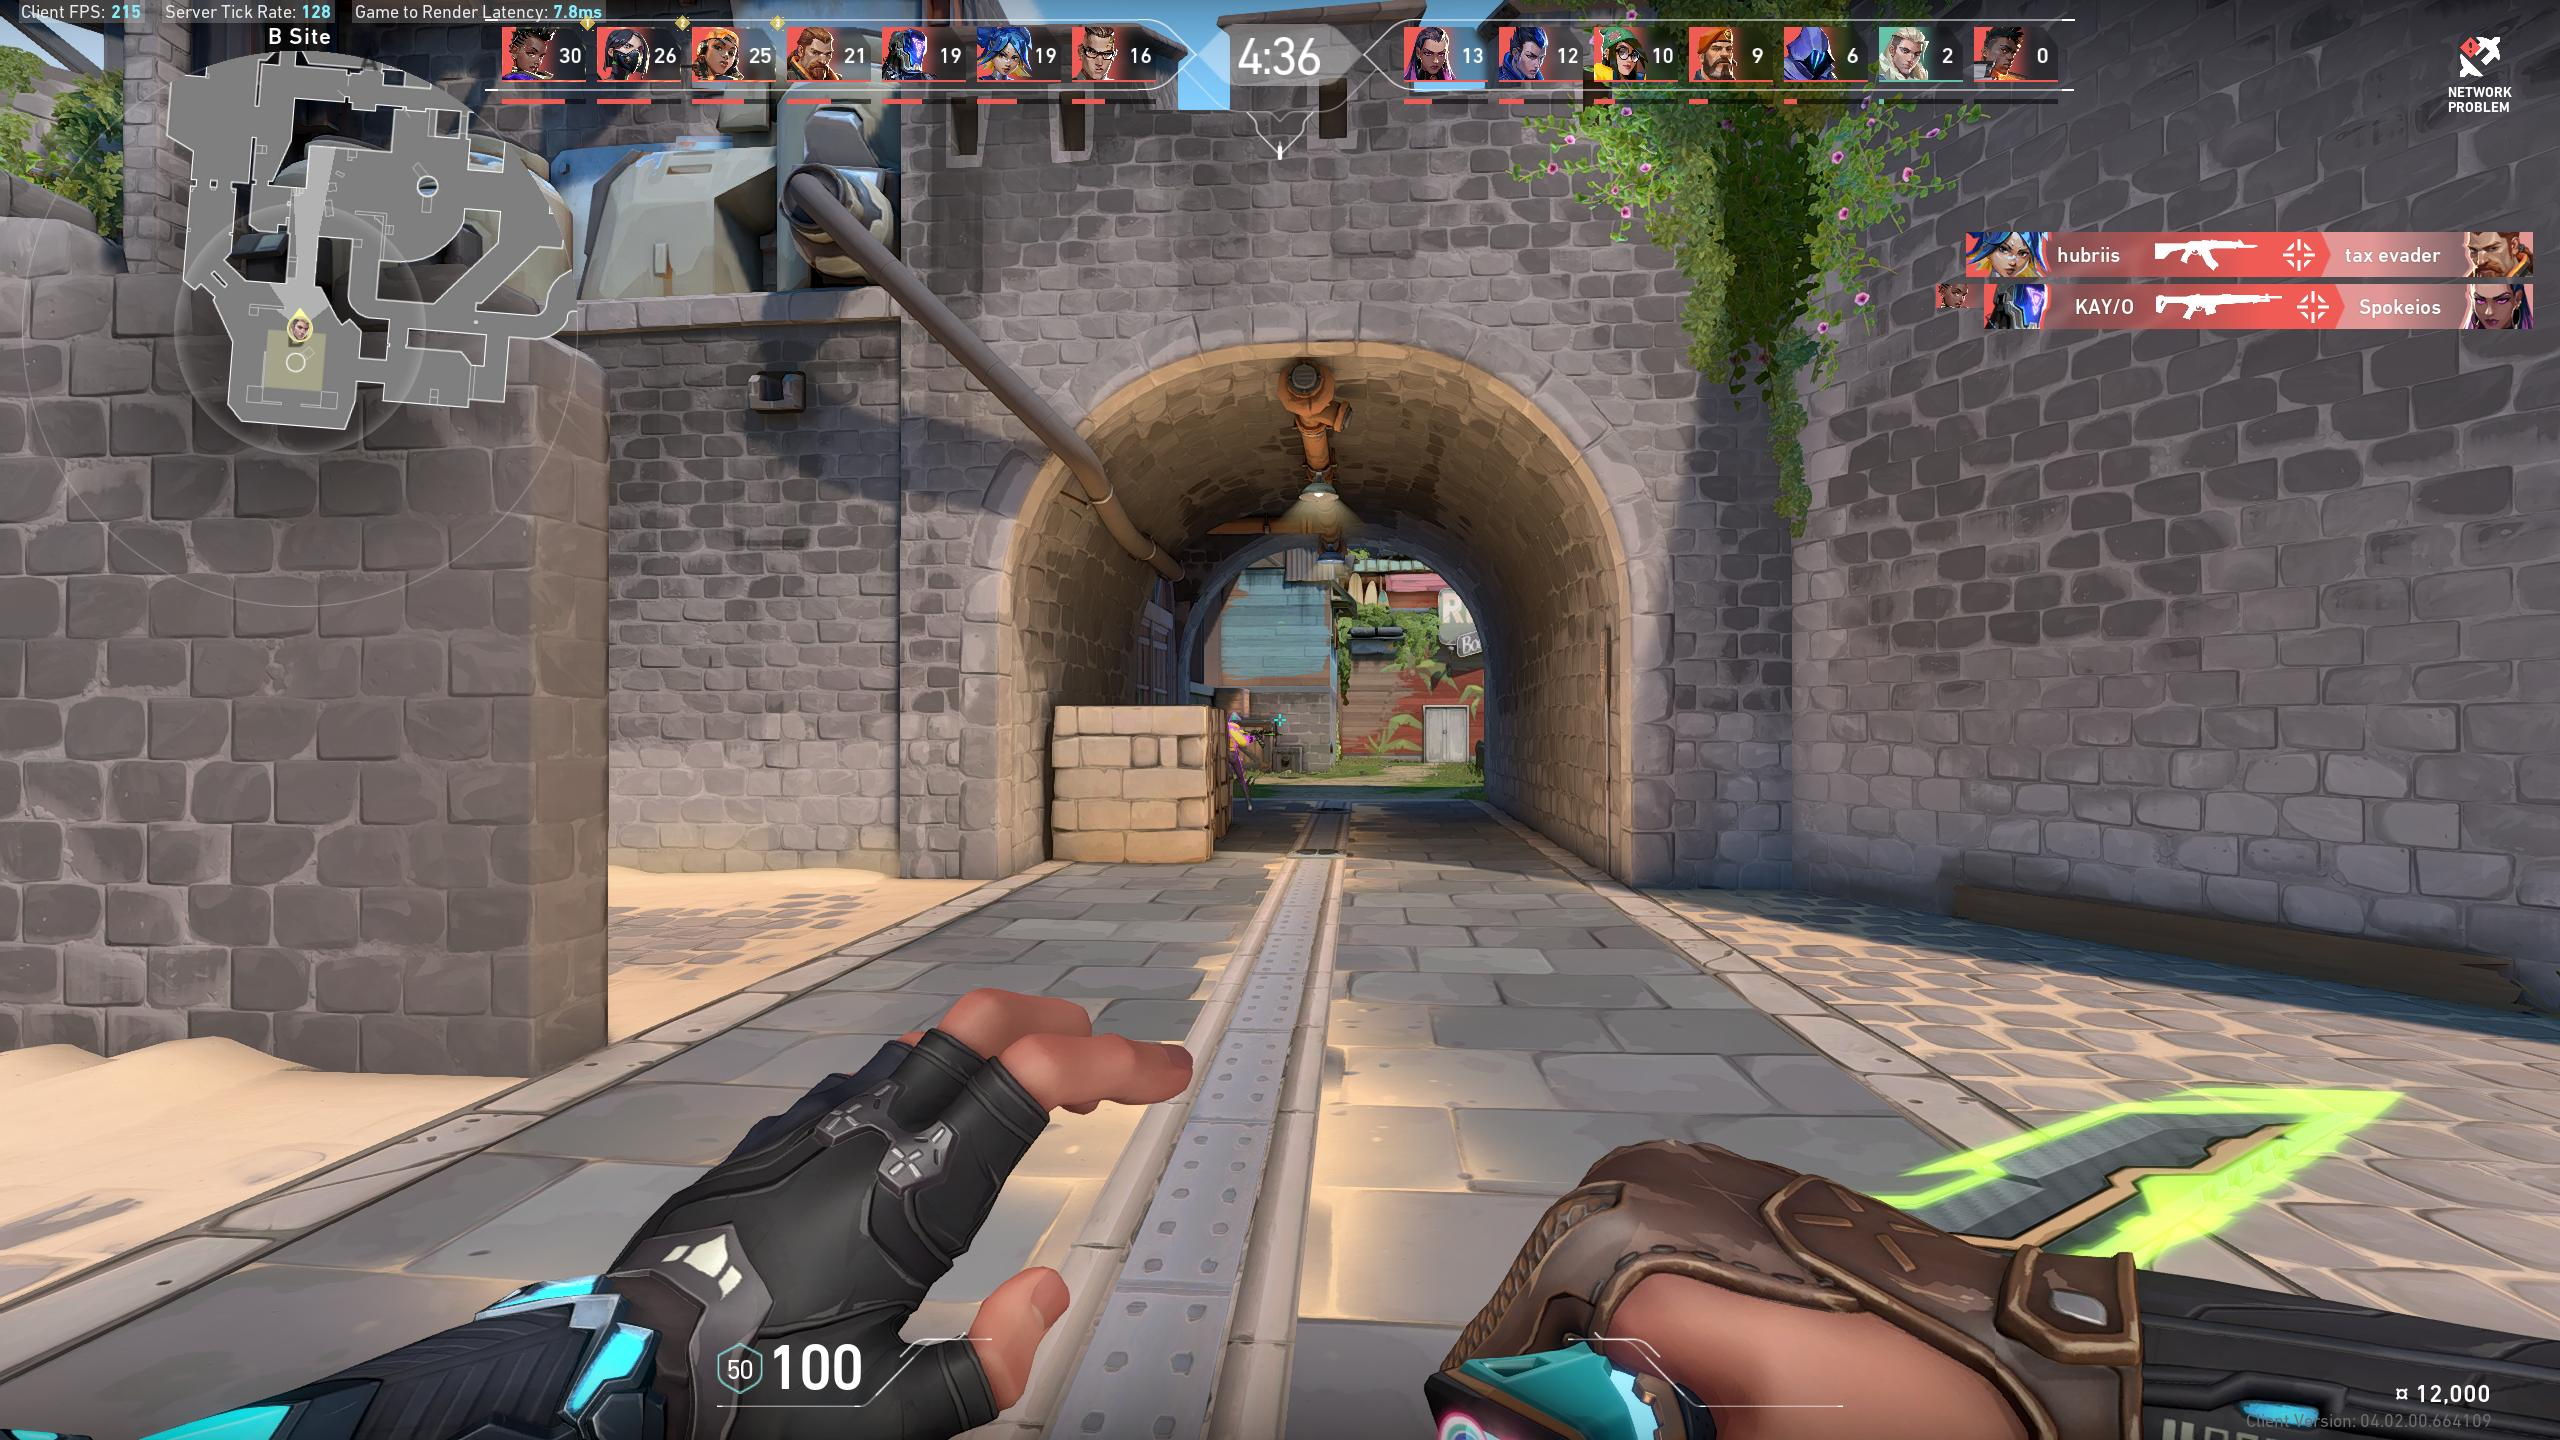enemyBody: (1229, 726, 1238, 745)
enemyHead: (1231, 717, 1238, 724)
